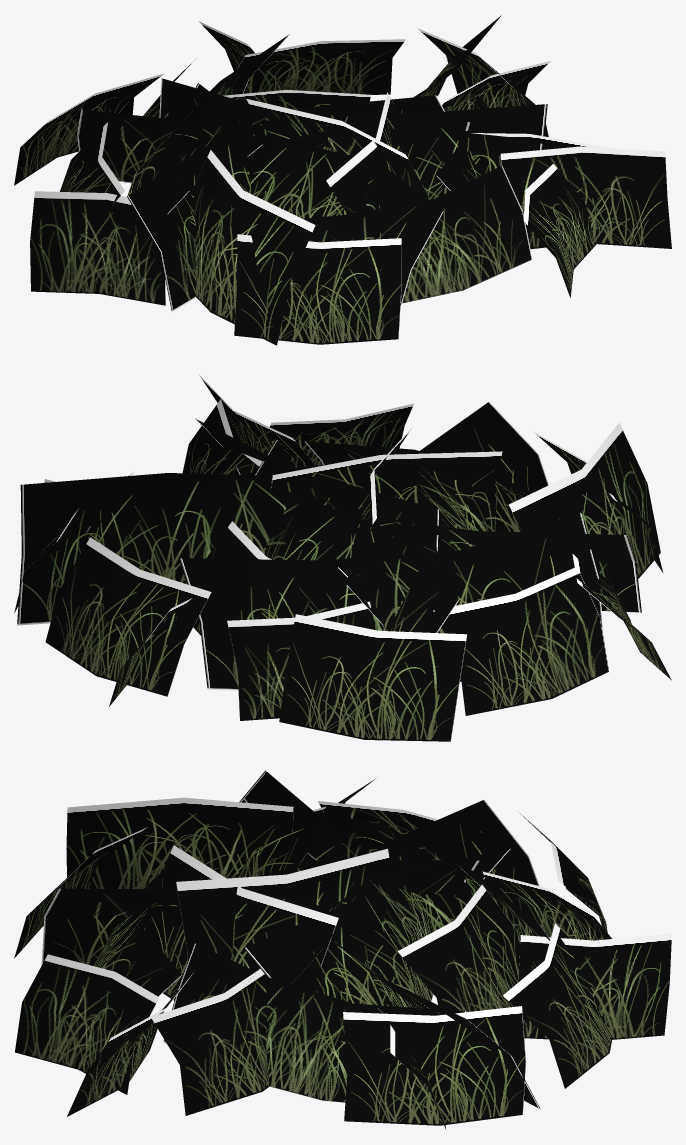
Rendered from grass01.fbx.
3 views of the same model, one above another, from view 1: azimuth 30°, elevation 25°; view 2: azimuth 150°, elevation 25°; view 3: azimuth 270°, elevation 25° (orthographic). The views are drawn at different scales.
Visible parts, largest first — view 1: grass01; view 2: grass01; view 3: grass01.
Boxes of the visible parts, <box> form: grass01: <box>14,15,671,345</box>; grass01: <box>14,375,671,741</box>; grass01: <box>14,770,671,1129</box>.
Bounding box in the file's own units: 216 × 41.96 × 205.
